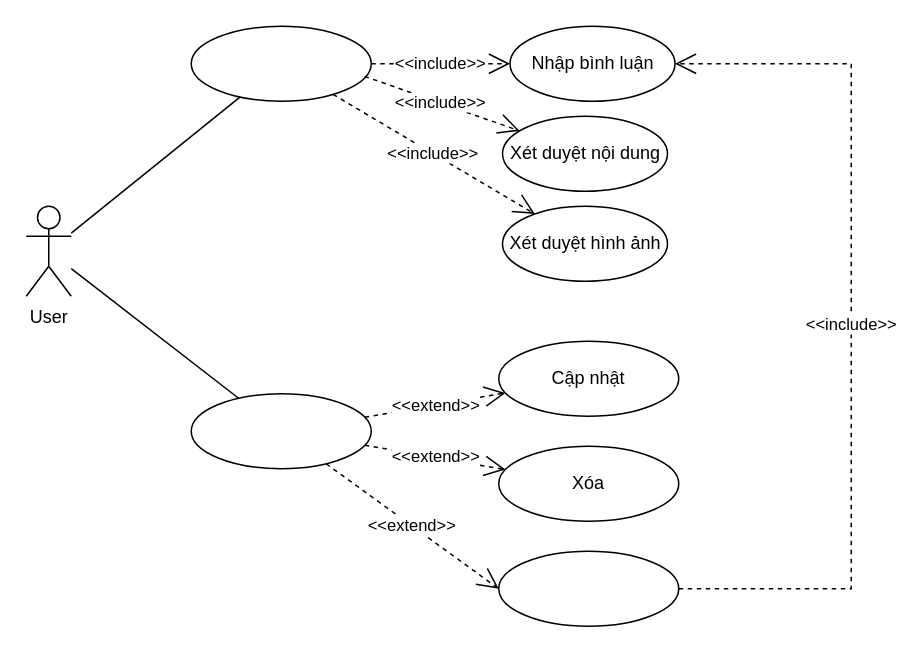
This 923x653 diagram has some shape labels left out. Here are the shapes that lost their labels. From the top down, the centre of each, then its label:
At point (280, 63): "Tạo bình luận".
At point (280, 430): "Xem bình luận".
At point (588, 588): "Phản hồi bình luận".
